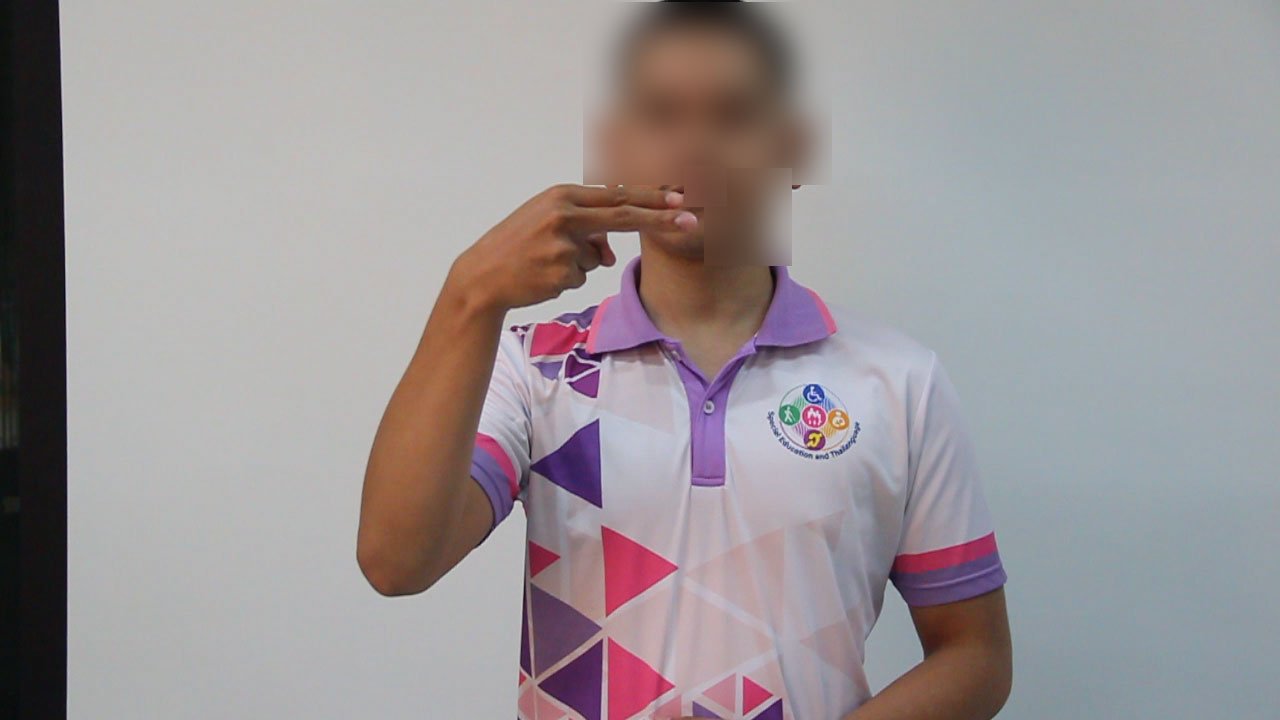hor: (436, 175, 712, 316)
